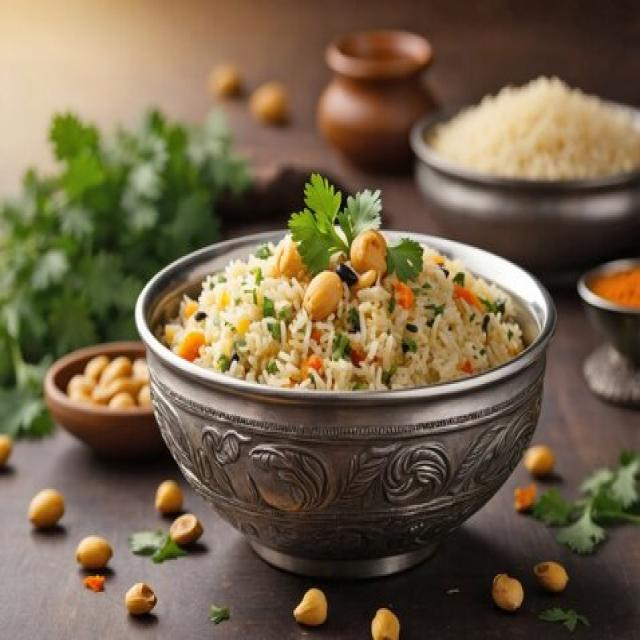UPMA: (158, 181, 529, 391)
